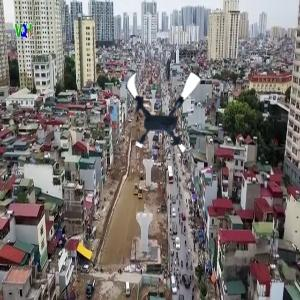drone: (119, 62, 212, 155)
